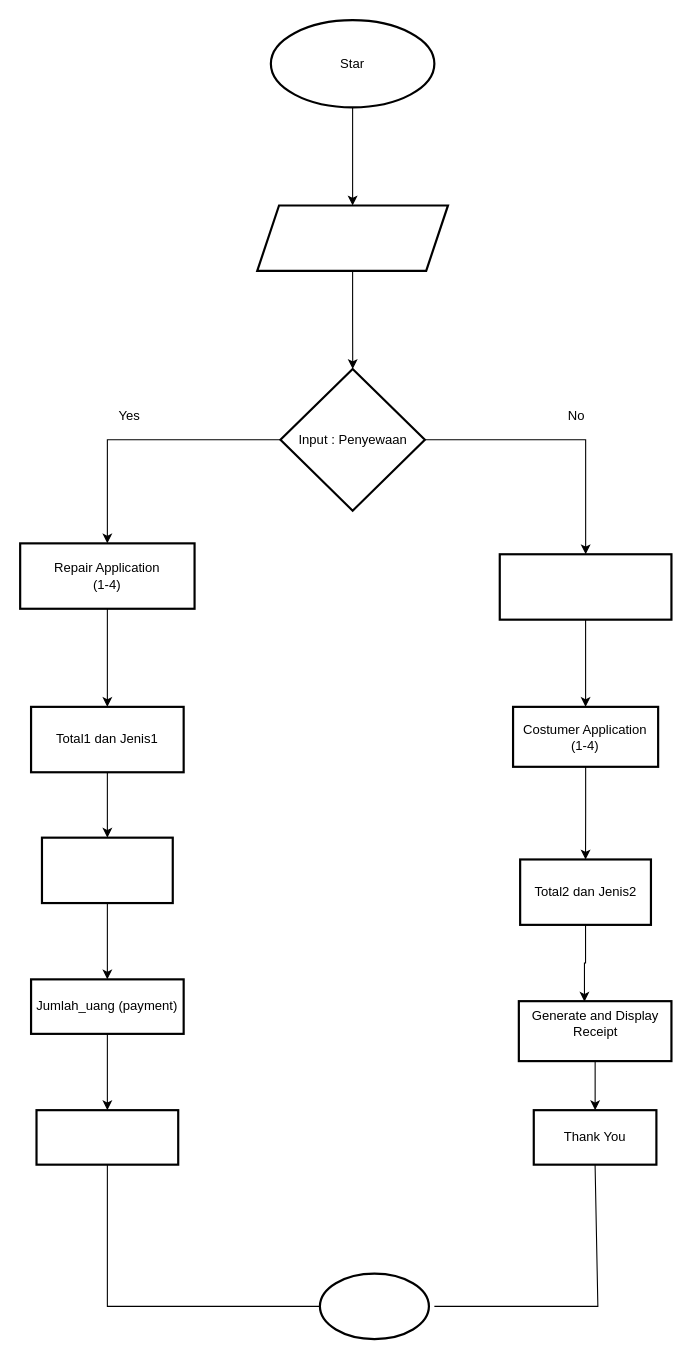
Image size: 691x1358. Some labels were removed from this diagram. The shapes that lost their labels are listed below. From the top down, each one's centre as x and y in pixels, then its label:
At pixel 352 237: "Display System Title".
At pixel 585 586: "Nomor Dan Hari".
At pixel 106 870: "Total semua".
At pixel 107 1137: "Kembalian".
At pixel 373 1306: "End".
